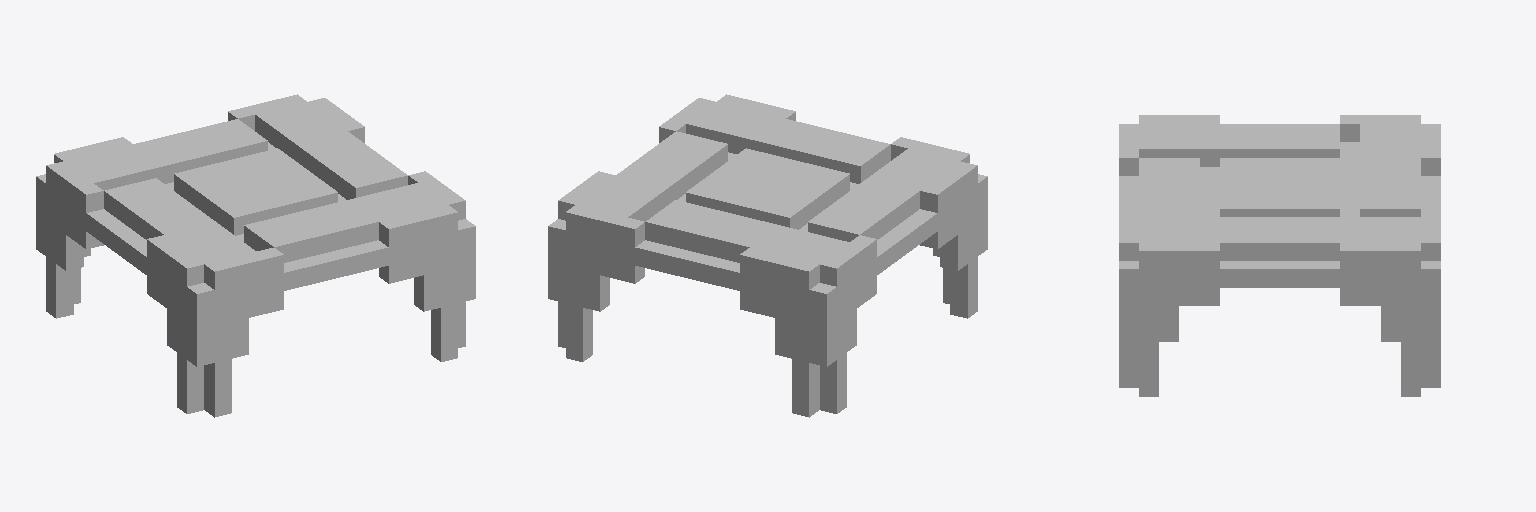
File: Tile.obj
The picture shows the model from 3 angles: view 1: azimuth 30°, elevation 25°; view 2: azimuth 150°, elevation 25°; view 3: azimuth 270°, elevation 25°; orthographic projection.
Visible parts, largest first — view 1: BlackTop; view 2: BlackTop; view 3: BlackTop.
Boxes of the visible parts, <box> form: BlackTop: <box>36,94,475,417</box>; BlackTop: <box>548,94,987,417</box>; BlackTop: <box>1119,115,1440,396</box>.
Size of the model in its own units: 1.6 by 0.8 by 1.6.